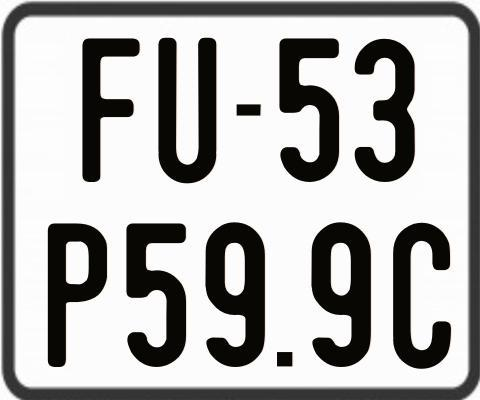3: (353, 38, 418, 181)
5: (279, 37, 345, 182), (124, 221, 188, 366)
9: (308, 219, 372, 366), (202, 222, 265, 368)
C: (390, 220, 452, 369)
F: (81, 35, 142, 180)
P: (46, 223, 109, 372)
U: (156, 38, 217, 183)
